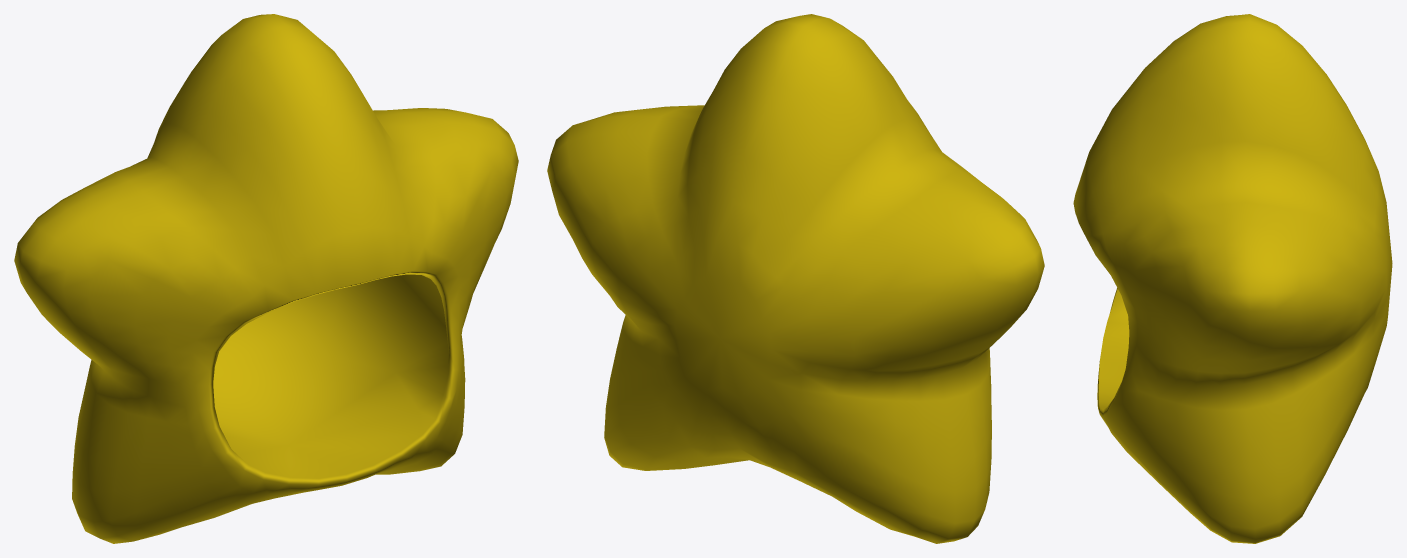
File: CapCostumeStar0.glb
3 renders of one model, left to right at view 1: azimuth 30°, elevation 25°; view 2: azimuth 150°, elevation 25°; view 3: azimuth 270°, elevation 25°, orthographic. The views are drawn at different scales.
Parts seen in each view (by area): view 1: Body__mCap; view 2: Body__mCap; view 3: Body__mCap.
Part boxes in pixels (left/top/right/bottom): Body__mCap: left=14, top=14, right=518, bottom=543; Body__mCap: left=547, top=14, right=1044, bottom=543; Body__mCap: left=1073, top=14, right=1392, bottom=543.
Bounding box in the file's own units: 11.22 × 10.49 × 6.72.
1 material, 1 textured.
